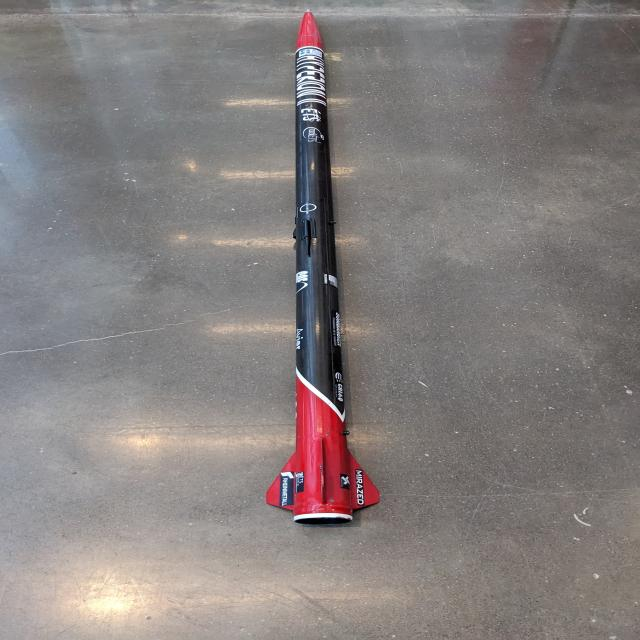Rocket: (266, 8, 380, 525)
